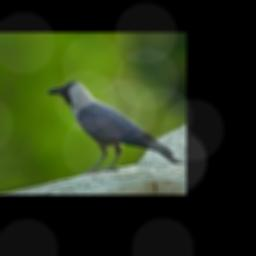Crow: (46, 81, 182, 172)
